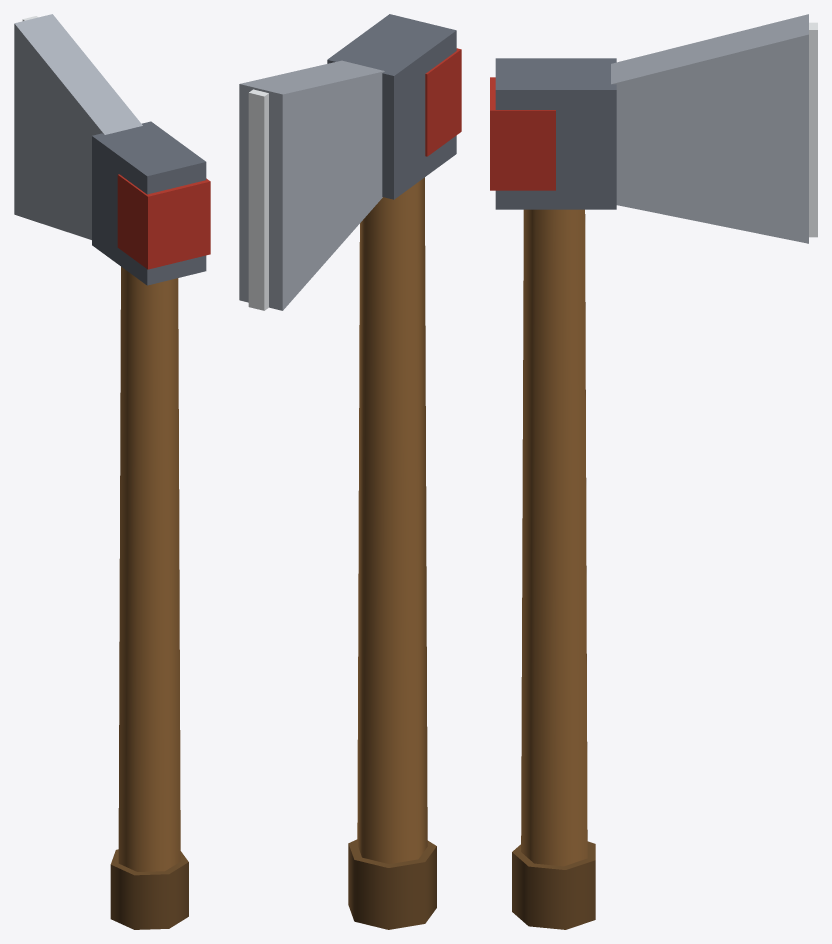
The model's file is tool_hatchet.glb.
The picture shows the model from 3 angles, left to right: view 1: azimuth 30°, elevation 25°; view 2: azimuth 150°, elevation 25°; view 3: azimuth 270°, elevation 25°; orthographic projection. The views are drawn at different scales.
Visible parts, largest first — view 1: _MeshInstance3D_827, _MeshInstance3D_830, _MeshInstance3D_829, _MeshInstance3D_831, _MeshInstance3D_828; view 2: _MeshInstance3D_827, _MeshInstance3D_830, _MeshInstance3D_829, _MeshInstance3D_828, _MeshInstance3D_832, _MeshInstance3D_831; view 3: _MeshInstance3D_827, _MeshInstance3D_830, _MeshInstance3D_829, _MeshInstance3D_828, _MeshInstance3D_831, _MeshInstance3D_832.
Boxes of the visible parts, x1,y1,x2,y2 form: _MeshInstance3D_827: [118, 267, 180, 871]; _MeshInstance3D_830: [14, 14, 142, 239]; _MeshInstance3D_829: [92, 121, 206, 285]; _MeshInstance3D_831: [117, 174, 210, 269]; _MeshInstance3D_828: [110, 849, 188, 929]; _MeshInstance3D_827: [357, 177, 427, 864]; _MeshInstance3D_830: [239, 60, 384, 310]; _MeshInstance3D_829: [327, 14, 456, 199]; _MeshInstance3D_828: [348, 839, 436, 929]; _MeshInstance3D_832: [248, 89, 268, 310]; _MeshInstance3D_831: [425, 48, 461, 156]; _MeshInstance3D_827: [521, 209, 587, 866]; _MeshInstance3D_830: [611, 14, 808, 243]; _MeshInstance3D_829: [495, 58, 616, 209]; _MeshInstance3D_828: [512, 841, 595, 929]; _MeshInstance3D_831: [490, 77, 555, 190]; _MeshInstance3D_832: [809, 22, 817, 237].
Bounding box in the file's own units: 0.039 × 0.445 × 0.149.
